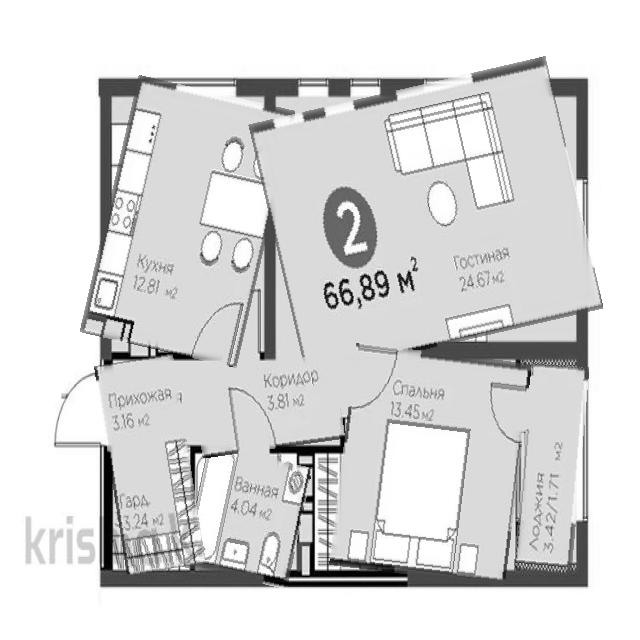balcony: (519, 363, 585, 574)
bathroom: (188, 451, 307, 585)
hallway: (102, 357, 198, 573), (194, 357, 343, 454)
kitchen: (93, 83, 282, 361)
living_room: (261, 72, 590, 361), (336, 348, 525, 582)
